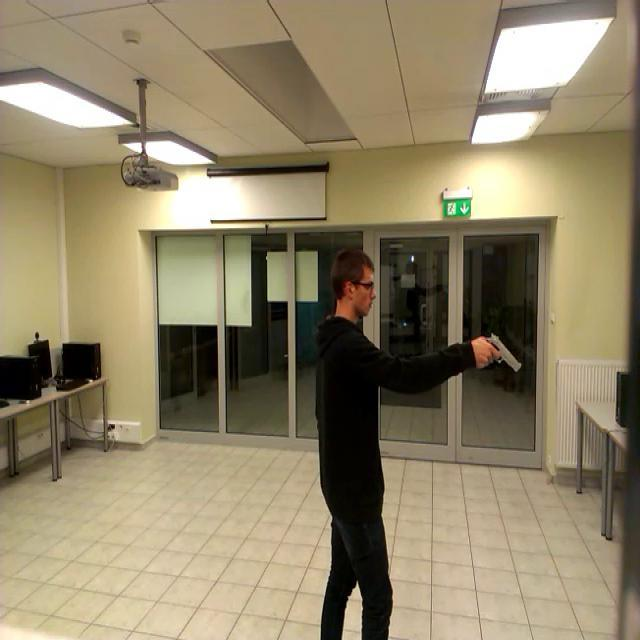Gun: (482, 332, 520, 371)
